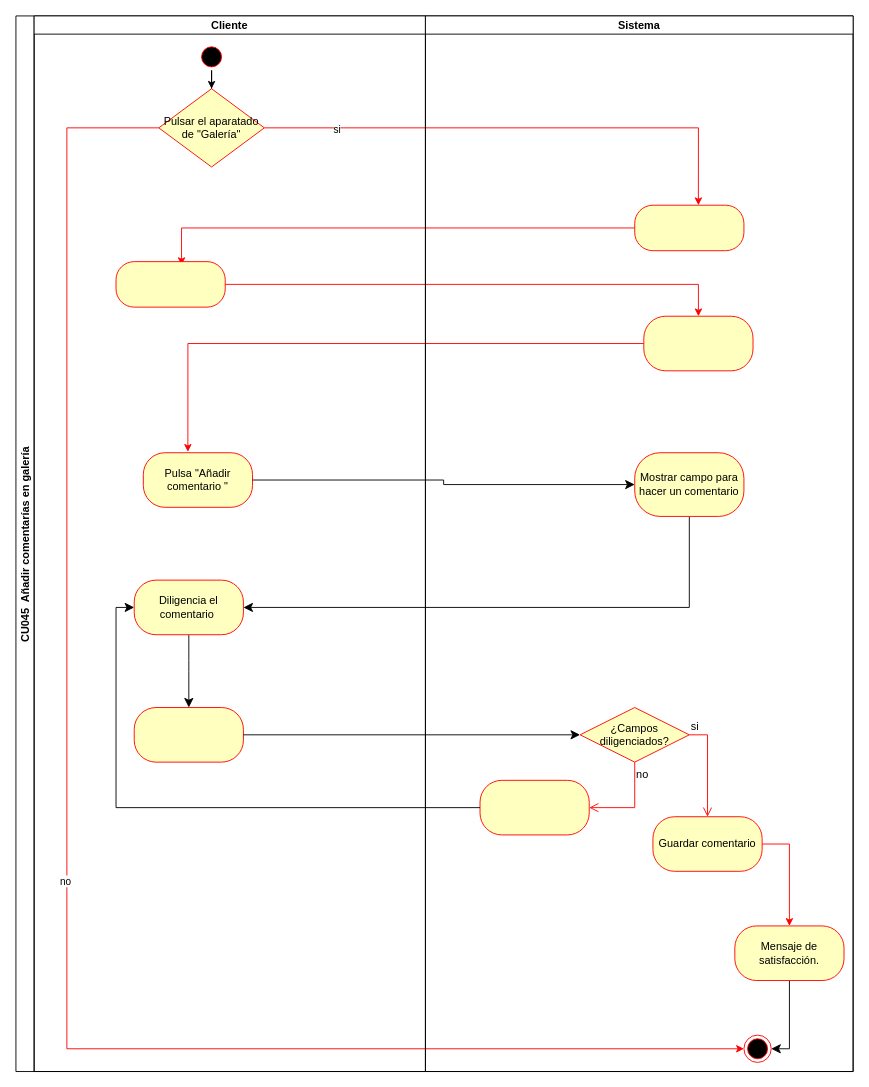
The diagram is 869 pixels wide and 1087 high, and some of its shapes have lost their labels. The centre of each missing label's shape, as x and y in pixels:
Lo redirige al apartado: the point at 689,227
Mensaje de error: the point at 534,807
Muestra botón "Añadir comentario": the point at 698,343
Pulsar el boton "Enviar": the point at 188,734
Selecciona una imagen o publicación: the point at 170,284
